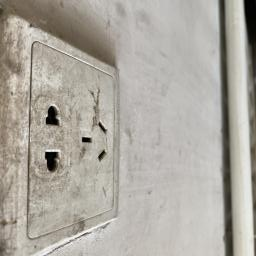outlet: (0, 20, 126, 256)
